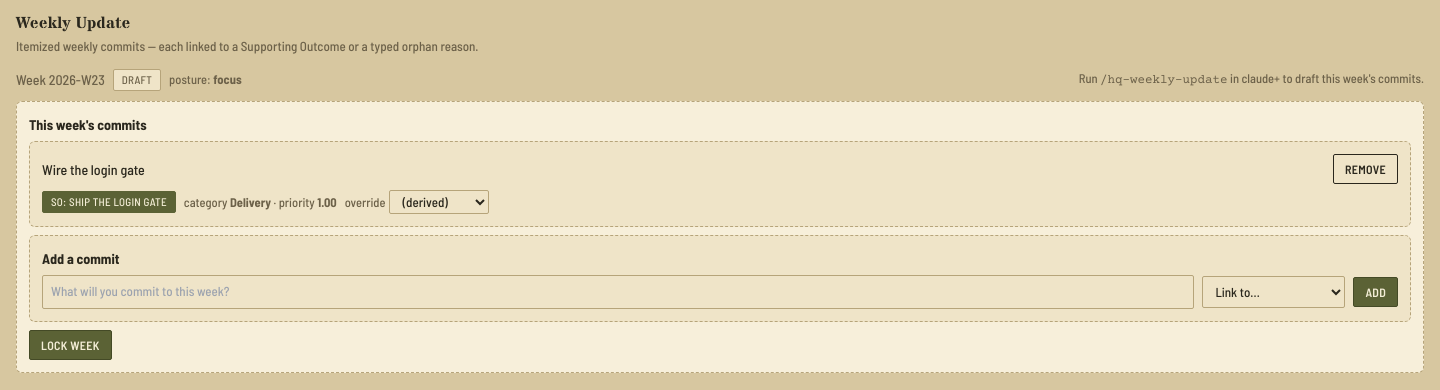
Scenario: ProjectWeekly — DRAFT editor (U10) › surfaces server blockers when lock returns a 409
This screenshot has width=1440, height=390.
Expected: the text "Wire the login gate" is shown, [42, 160, 145, 178]
Click the button with test id "lock-week": (70, 344) [29, 330, 112, 360]
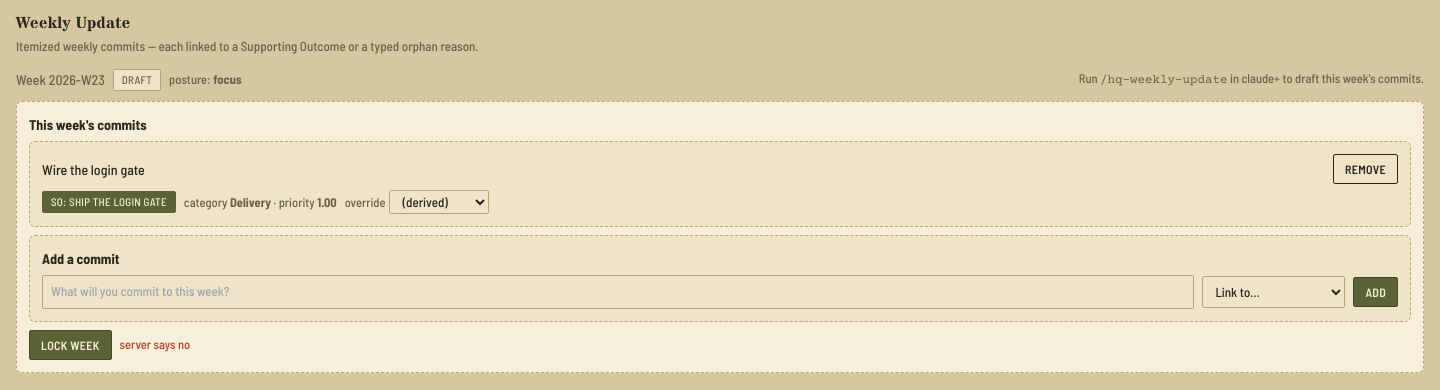
Expected: the list with test id "lock-blockers" reads "server says no", [120, 336, 190, 352]
